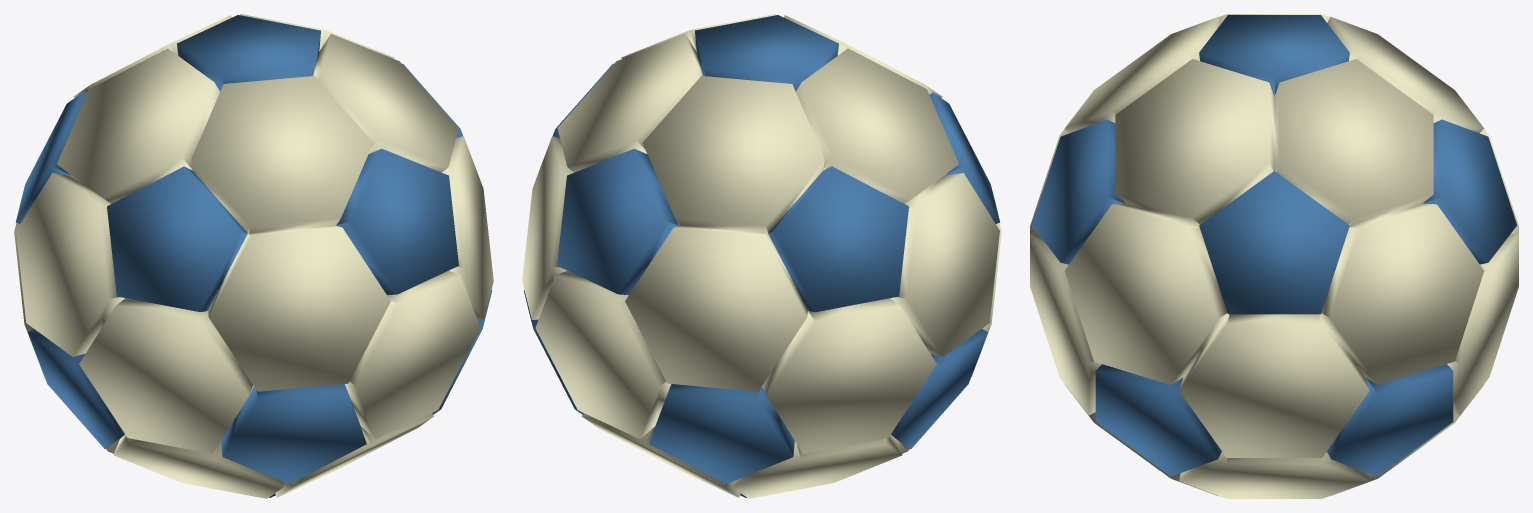
File: pelota fulbo.glb
3 views of the same model, side by side, from view 1: azimuth 30°, elevation 25°; view 2: azimuth 150°, elevation 25°; view 3: azimuth 270°, elevation 25° (orthographic). The views are drawn at different scales.
Visible parts, largest first — view 1: Icosphere; view 2: Icosphere; view 3: Icosphere.
Boxes of the visible parts, bbox=[...] form: Icosphere: bbox=[14, 14, 493, 498]; Icosphere: bbox=[522, 14, 1001, 498]; Icosphere: bbox=[1030, 14, 1518, 498].
Bounding box in the file's own units: 0.8356 × 0.8177 × 0.8455.
